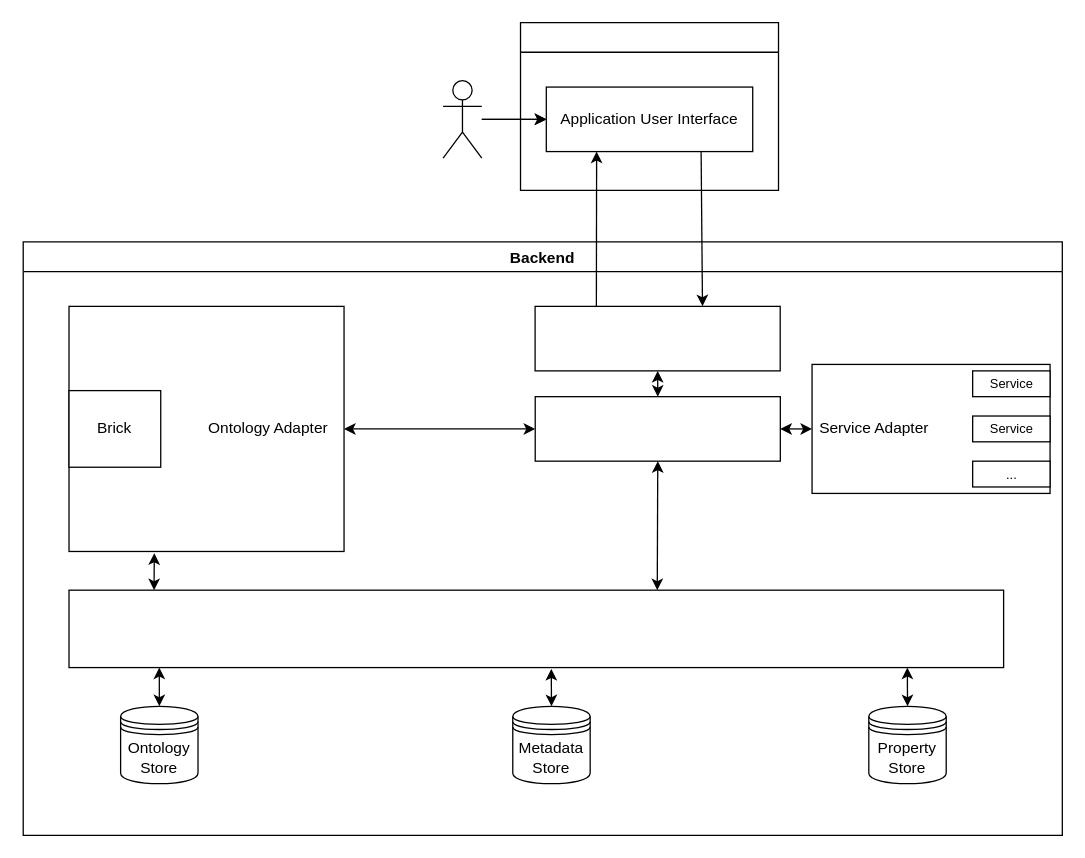
Image size: 1085x858. Some labels were removed from this diagram. The shapes that lost their labels are listed below. From the top down, each one's centre as x and y in pixels, then its label:
At (x=462, y=118): "User".
At (x=649, y=105): "Frontend".
At (x=657, y=338): "API".
At (x=657, y=428): "Flask App".
At (x=536, y=628): "Database Management System".
